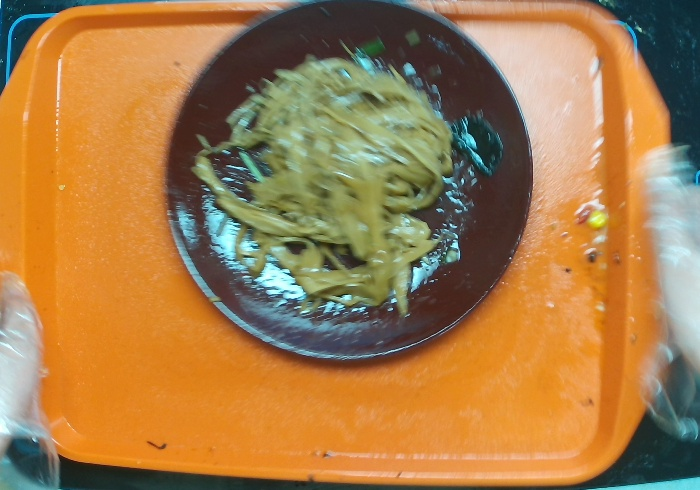HZYJPL-Ka_Fei_Yuan_Pan: (161, 1, 537, 365)
